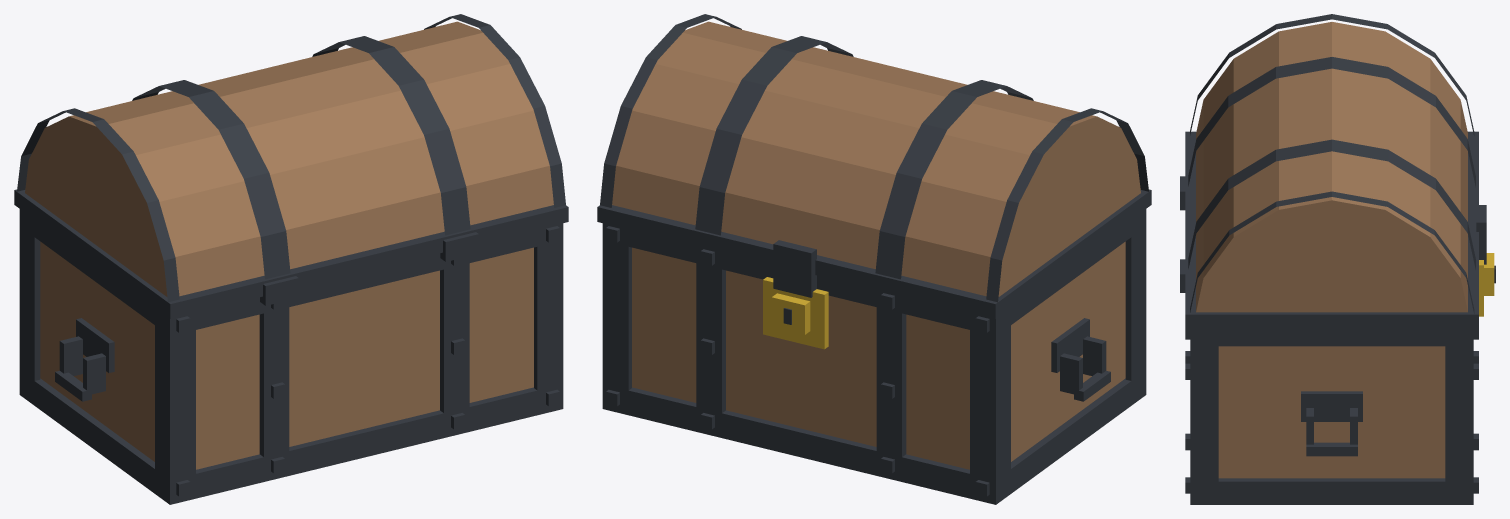
File: Chest.obj
3 renders of one model, left to right at view 1: azimuth 30°, elevation 25°; view 2: azimuth 150°, elevation 25°; view 3: azimuth 270°, elevation 25°, orthographic. The views are drawn at different scales.
Parts seen in each view (by area): view 1: Wood, Iron; view 2: Wood, Iron, Gold; view 3: Wood, Iron, Gold.
Part boxes in pixels (box(x1,y1,x2,y2)): Wood: box(25, 21, 553, 469); Iron: box(14, 14, 568, 504); Wood: box(612, 21, 1140, 469); Iron: box(597, 14, 1151, 504); Gold: box(763, 277, 828, 349); Wood: box(1196, 22, 1467, 478); Iron: box(1180, 14, 1495, 504); Gold: box(1479, 253, 1494, 316).
Size of the model in its own units: 0.94 by 0.665 by 0.613.
